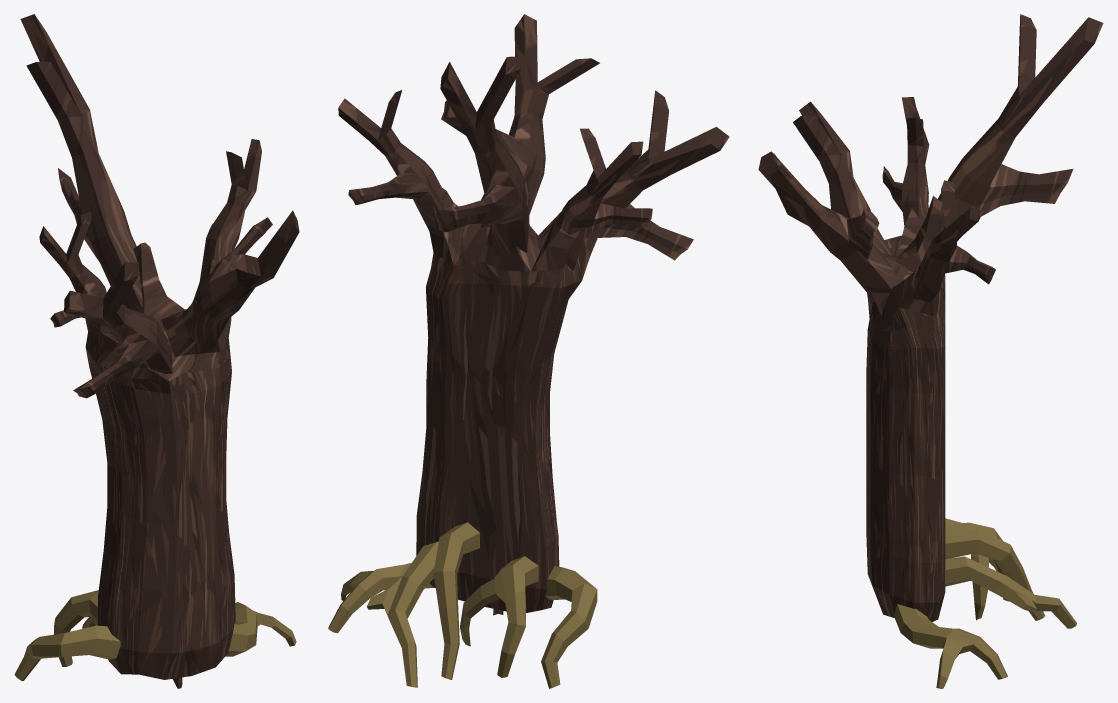
File: Tree Bridge.fbx
The picture shows the model from 3 angles, left to right: view 1: azimuth 30°, elevation 25°; view 2: azimuth 150°, elevation 25°; view 3: azimuth 270°, elevation 25°; orthographic projection. The views are drawn at different scales.
Parts seen in each view (by area): view 1: Main_Log, Branches, Roots; view 2: Main_Log, Branches, Roots; view 3: Main_Log, Branches, Roots.
Boxes of the visible parts, x1=… form: Main_Log: x1=85, y1=242, x2=235, y2=679; Branches: x1=20, y1=14, x2=299, y2=398; Roots: x1=14, y1=590, x2=296, y2=680; Main_Log: x1=416, y1=181, x2=601, y2=612; Branches: x1=338, y1=14, x2=729, y2=270; Roots: x1=328, y1=522, x2=597, y2=688; Main_Log: x1=866, y1=196, x2=945, y2=621; Branches: x1=758, y1=14, x2=1103, y2=302; Roots: x1=893, y1=518, x2=1076, y2=688.
Bounding box in the file's own units: 3.65 × 7.21 × 3.81.
Materials: 1 (1 with a texture image).
